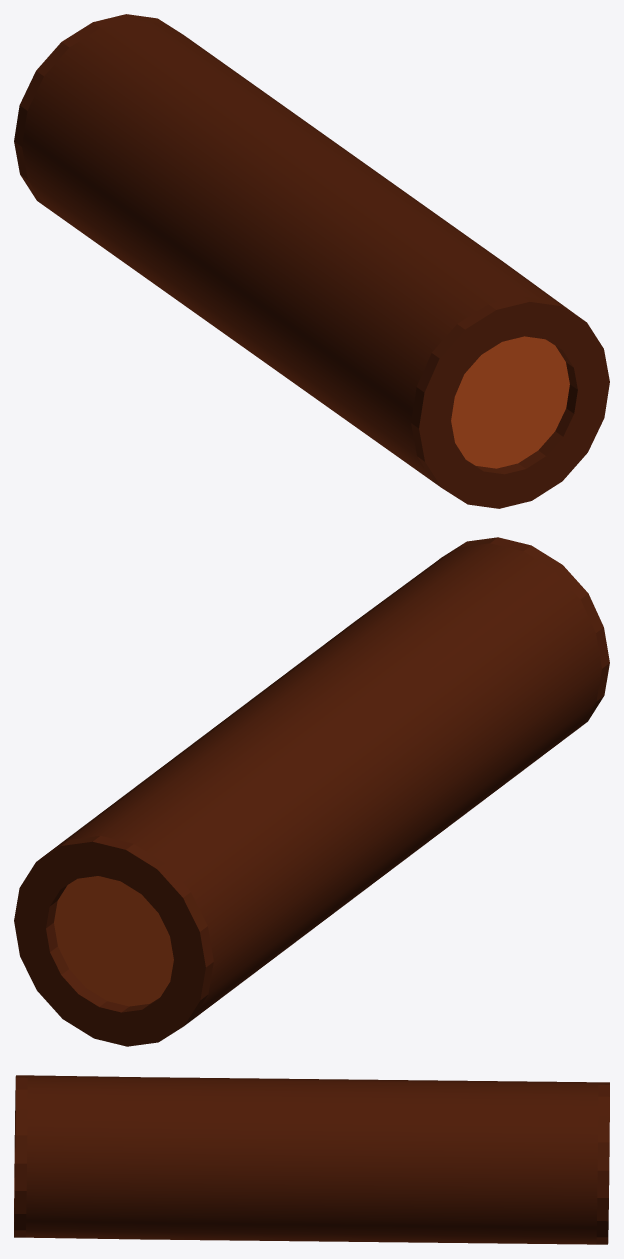
The model's file is Log.fbx.
3 renders of one model, top to bottom at view 1: azimuth 30°, elevation 25°; view 2: azimuth 150°, elevation 25°; view 3: azimuth 270°, elevation 25°, orthographic. The views are drawn at different scales.
Visible parts, largest first — view 1: Cylinder004; view 2: Cylinder004; view 3: Cylinder004.
Part boxes in pixels (x1=…): Cylinder004: x1=14, y1=14, x2=609, y2=508; Cylinder004: x1=14, y1=537, x2=609, y2=1046; Cylinder004: x1=14, y1=1075, x2=609, y2=1244.
Size of the model in its own units: 4.26 by 4.39 by 15.58.
